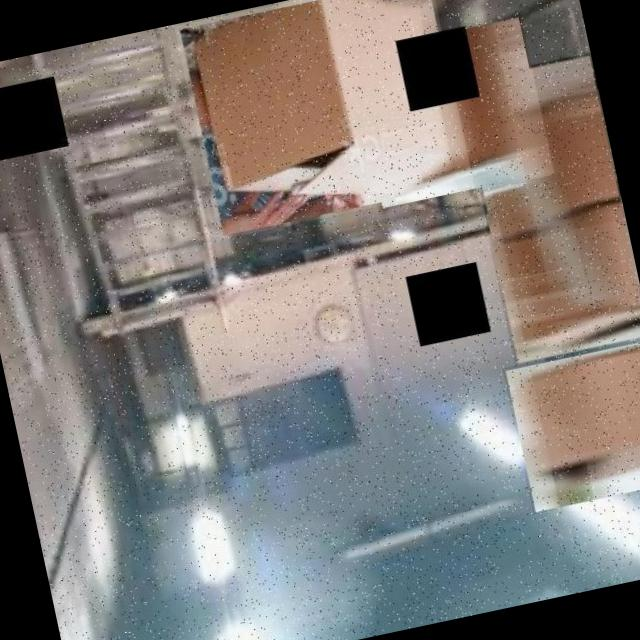box: (173, 0, 474, 239), (344, 12, 554, 211), (456, 52, 625, 246), (484, 194, 640, 364), (501, 336, 640, 514)
